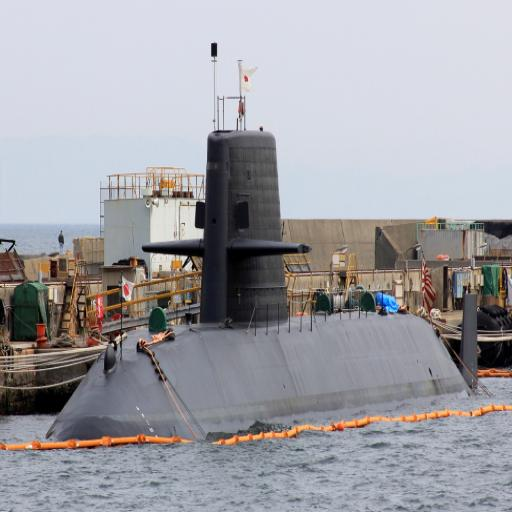submarine: (52, 128, 484, 442)
